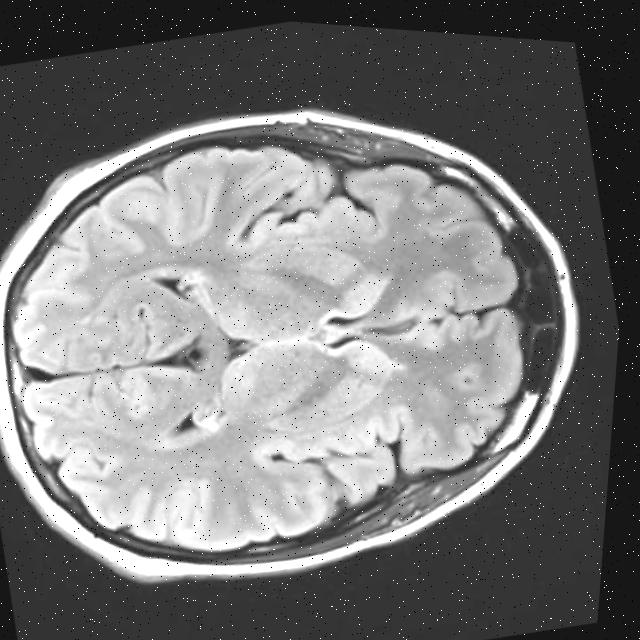NoTumor: (0, 25, 638, 640)
